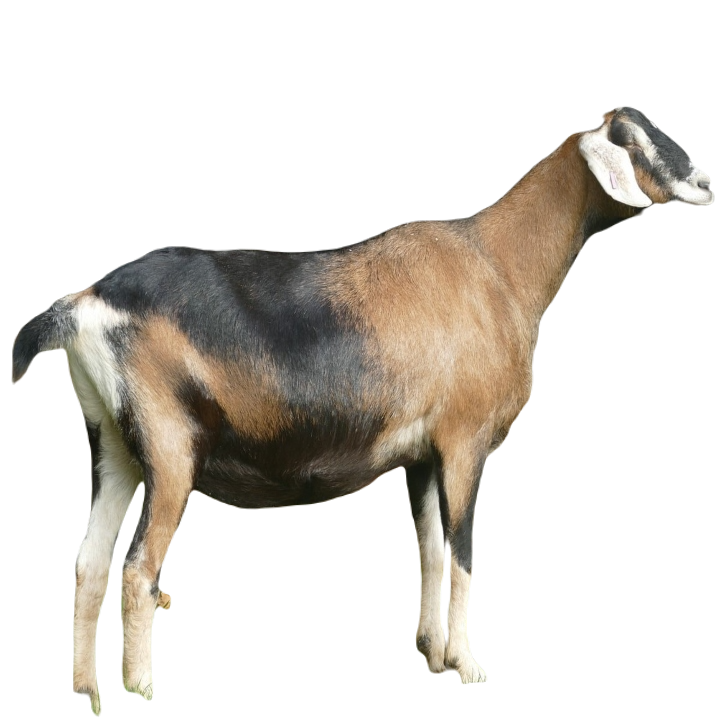Goat: (11, 106, 715, 708)
